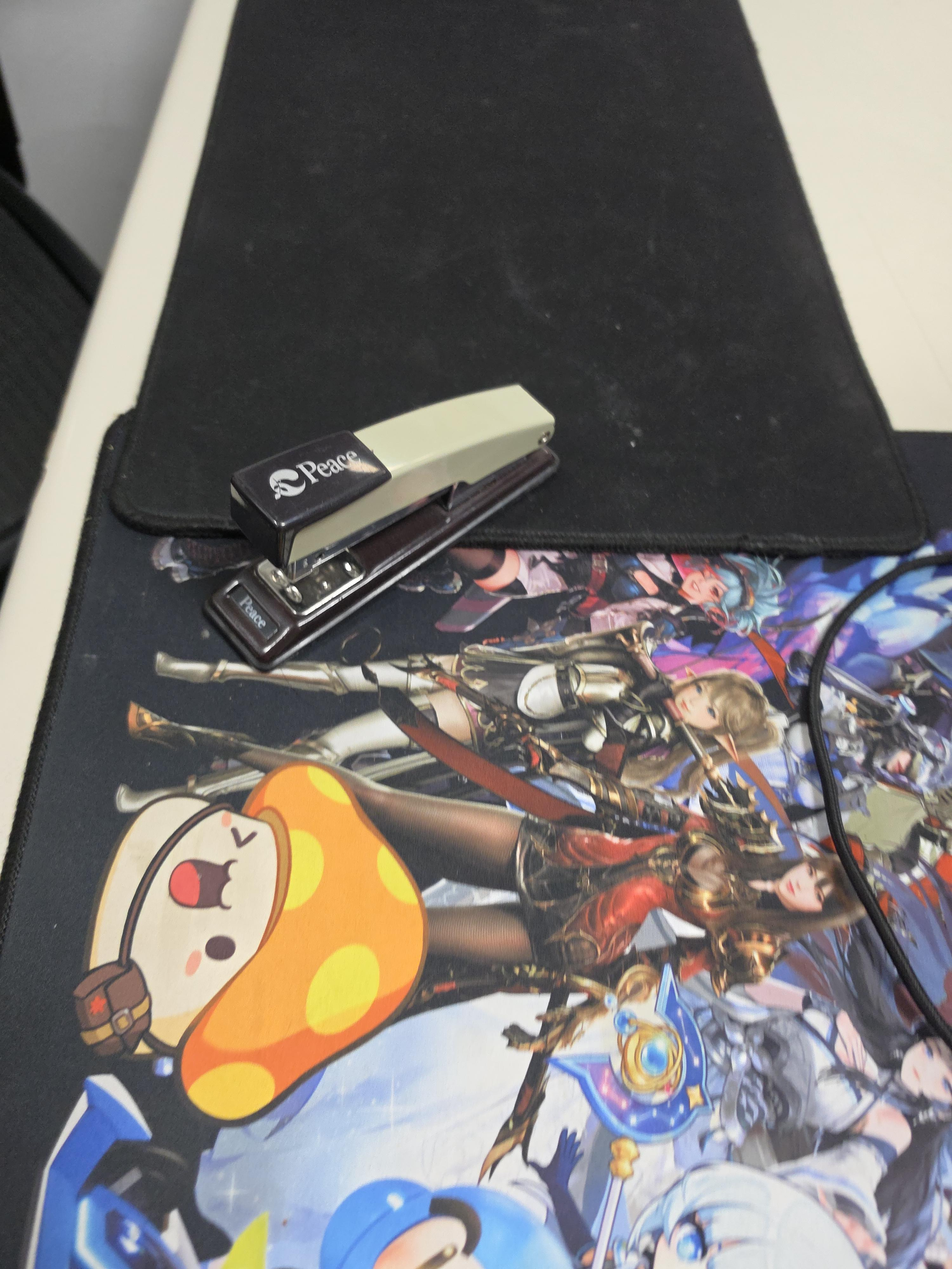stapler: (203, 383, 562, 669)
